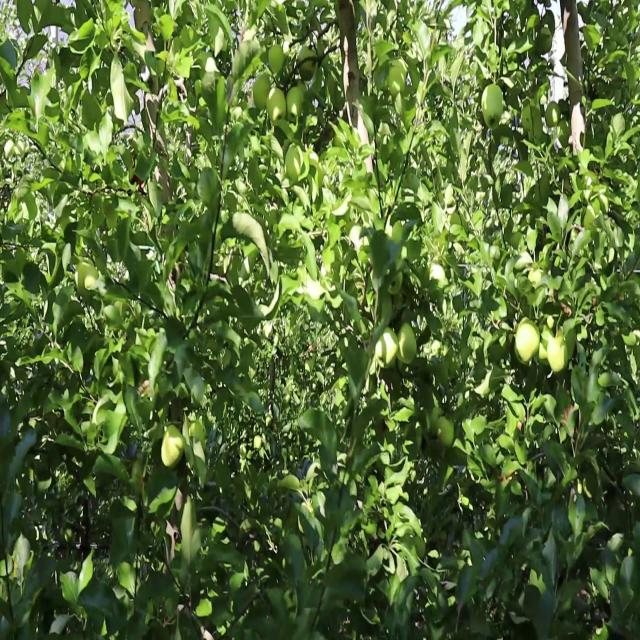apple: (514, 316, 540, 364), (161, 424, 185, 472), (480, 82, 504, 128), (375, 327, 398, 371), (266, 83, 288, 128), (397, 322, 417, 366), (547, 336, 569, 375), (74, 258, 95, 298), (297, 44, 318, 82), (284, 143, 304, 179), (286, 85, 304, 123), (388, 61, 407, 94), (437, 415, 455, 449), (252, 75, 269, 107), (544, 100, 561, 126), (269, 44, 284, 73), (538, 327, 549, 365)
